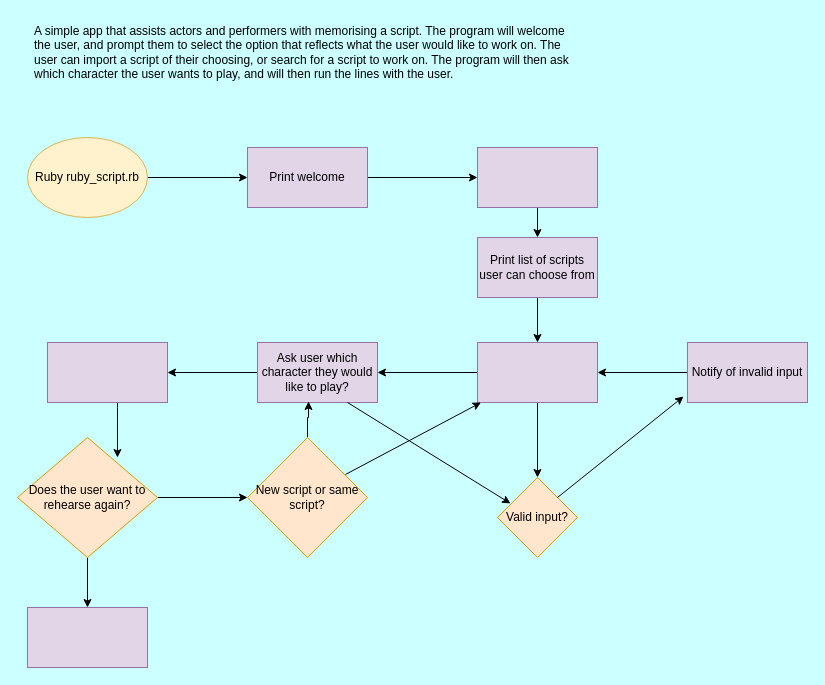
Some shapes in this 825 by 685 pixel diagram are drawn without their labels. Here are the shapes that lost their labels. From the top down, the box of each, then its label:
(476, 146, 598, 208): Print available scripts
(46, 342, 168, 402): Print lines up until the characters name is mentioned (and repeat)
(476, 342, 598, 402): Ask user to select a script
(26, 606, 148, 668): Goodbye message
